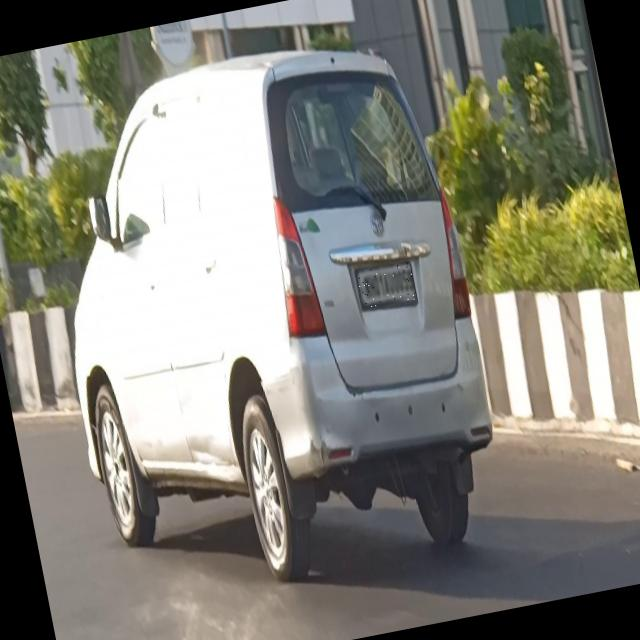Plate: (358, 262, 418, 311)
